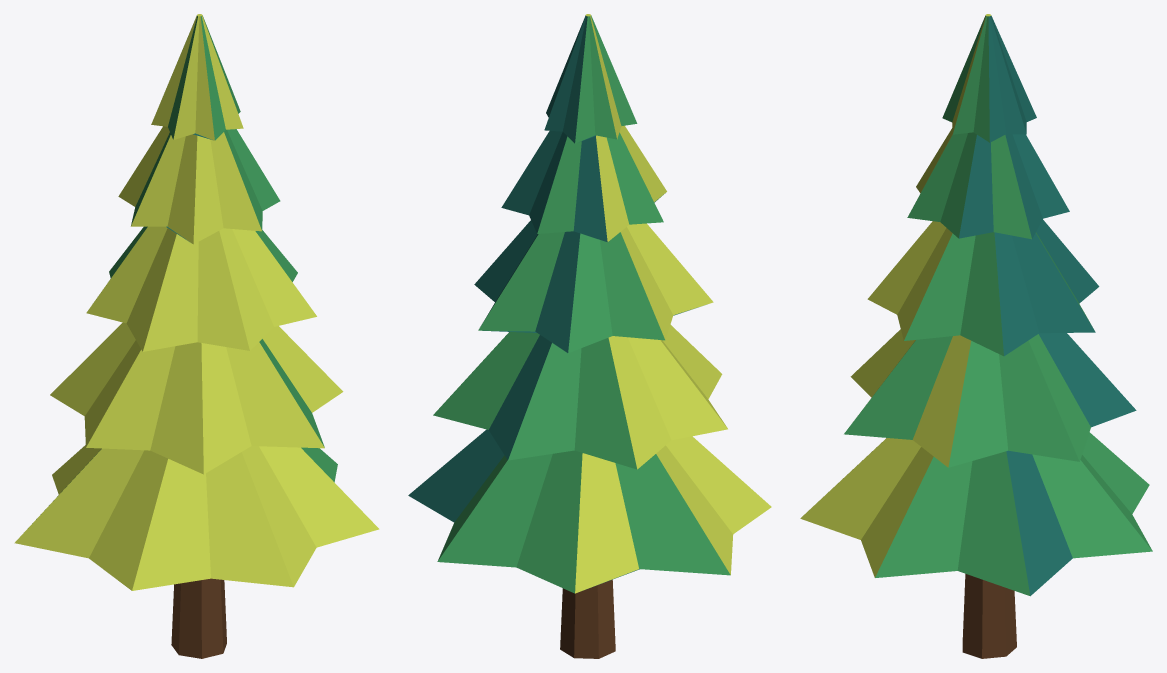
Rendered from Agac_Cam_v2.fbx.
3 views of the same model, side by side, from view 1: azimuth 30°, elevation 25°; view 2: azimuth 150°, elevation 25°; view 3: azimuth 270°, elevation 25° (orthographic).
Visible parts, largest first — view 1: Agac_Cam; view 2: Agac_Cam; view 3: Agac_Cam.
Part boxes in pixels (x1,y1,x2,y2): Agac_Cam: (14, 14, 379, 658); Agac_Cam: (408, 14, 771, 658); Agac_Cam: (800, 14, 1152, 658).
Size of the model in its own units: 261 by 487 by 246.
